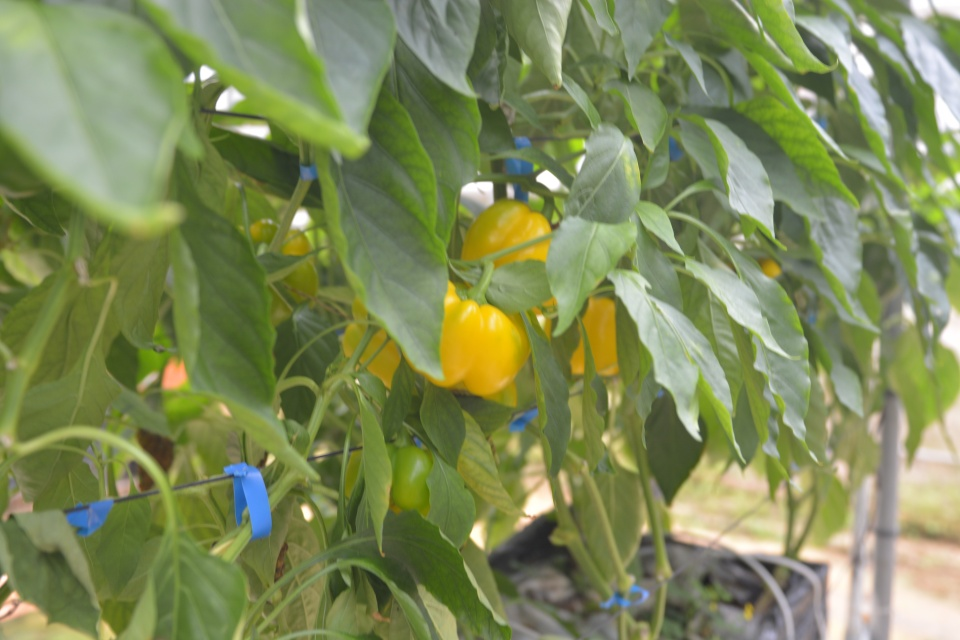fruit: (400, 279, 534, 399), (458, 195, 554, 315), (232, 214, 322, 331), (340, 292, 421, 393), (531, 291, 622, 378), (341, 436, 434, 521)
pedicle: (455, 286, 491, 307)
